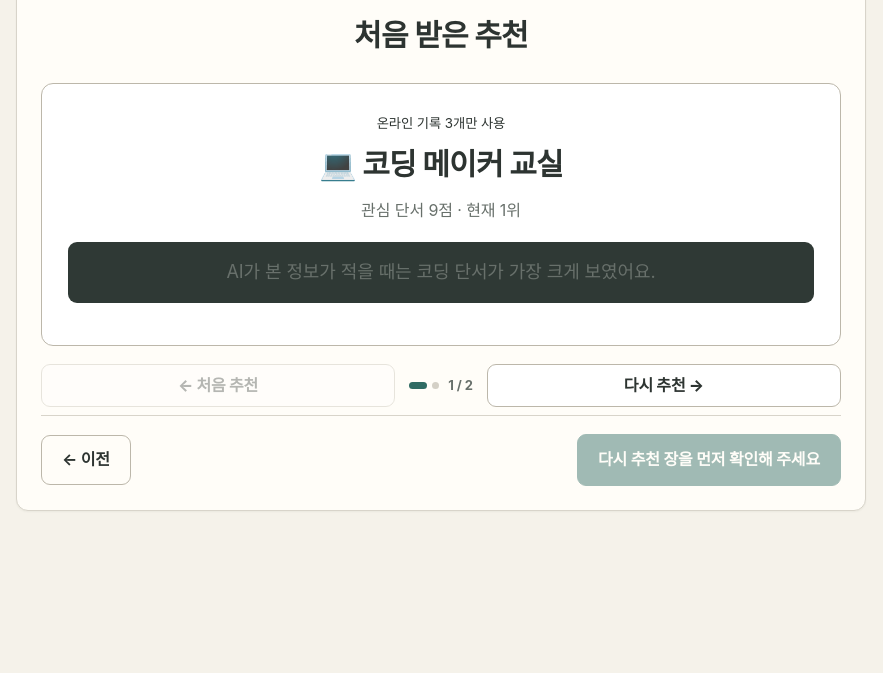
Test: FairnessLab v5 paged student flow › 6. 추천 비교는 처음 장에서 다시 추천 장으로 넘겨 확인한다
Expected: the heading "💻 코딩 메이커 교실" is shown, [319,146,563,182]
Expected: the heading "과학 탐구 교실" is not shown
Click the button "다시 추천 →" at (664, 385), box [487,364,841,407]
(page scrolled)
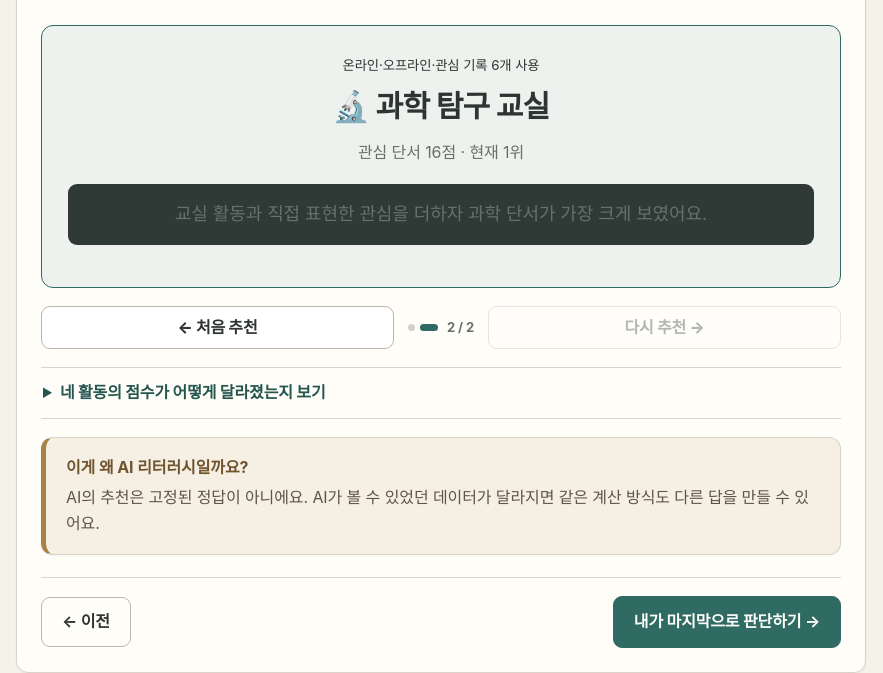
Result: the heading "🔬 과학 탐구 교실" is shown at [333,88,550,124]
Result: the heading "네 활동의 점수가 어떻게 달라졌는지 보기" is shown at [60,382,326,402]
Result: the button "내가 마지막으로 판단하기 →" is enabled at [613,596,841,648]
